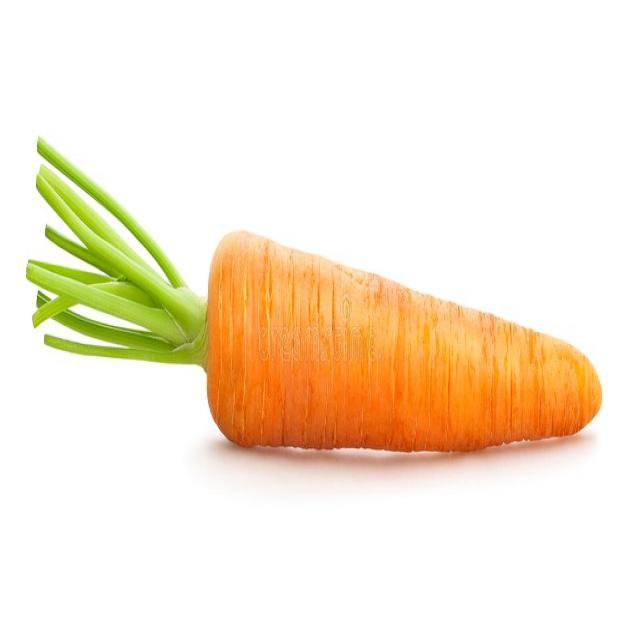Carrot: (27, 140, 605, 453)
